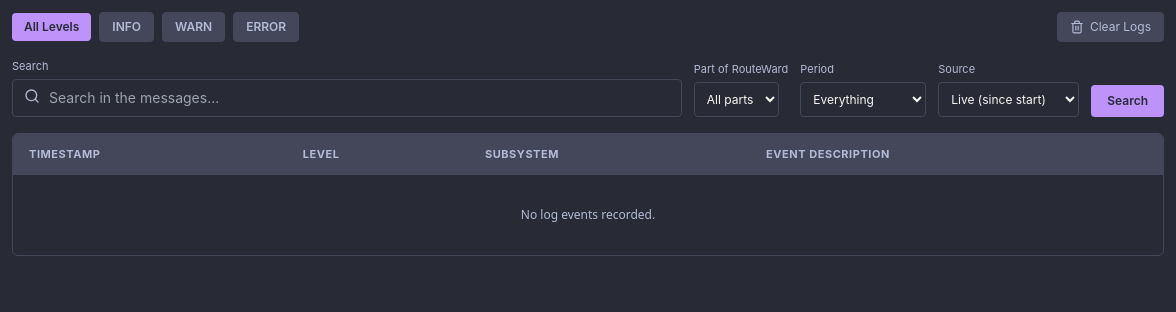
Test: LogsView filters and paging › offers the daemon files by date and pages with the next cursor
The image size is (1176, 312).
Select "File of 2026-11-22" in the dropdown labelled "Source". click: point(1009, 99)
box: [938,82,1079,116]
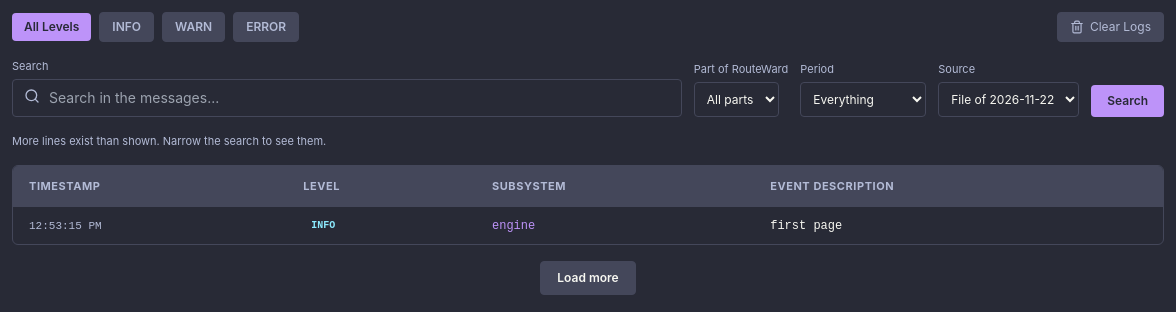
Check: the text "first page" is shown, box [754,206,1163,244]
Click the button "Load more". click: point(588, 278)
box: [540,261,636,295]
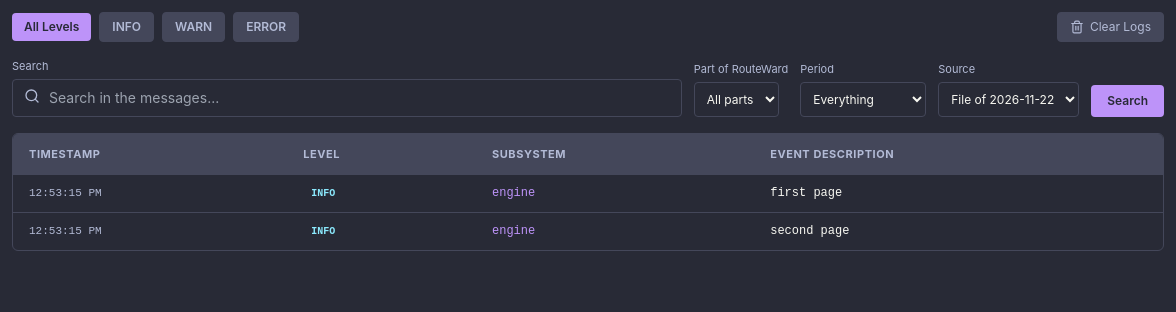
Check: the text "first page" is shown, box [754,174,1163,212]
Check: the text "second page" is shown, box [754,212,1163,250]
Check: the button "Load more" is gone
